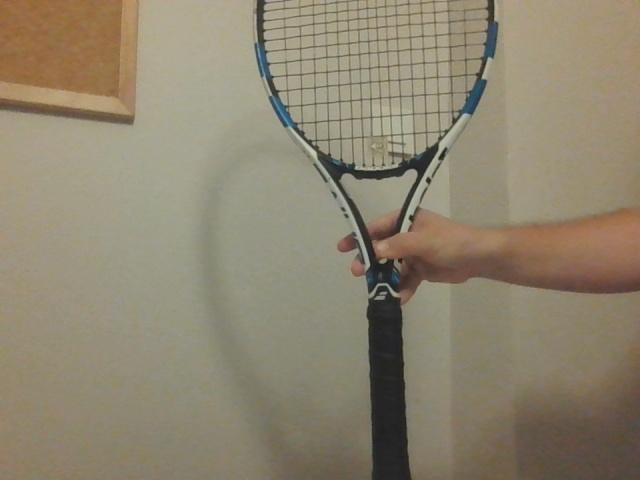Tennis-Racket: (253, 1, 498, 480)
